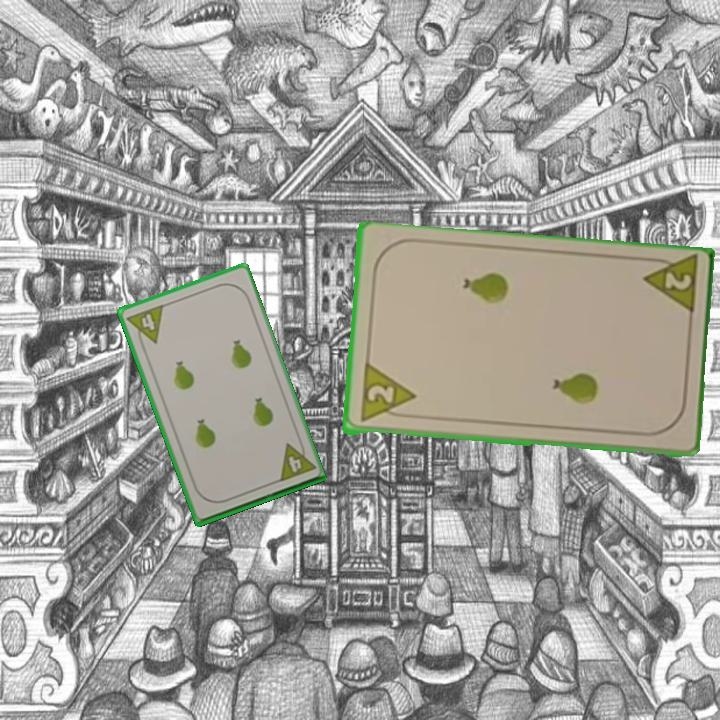2p: (639, 254, 701, 320), (356, 362, 417, 426)
4p: (274, 436, 318, 485), (123, 301, 166, 351)
